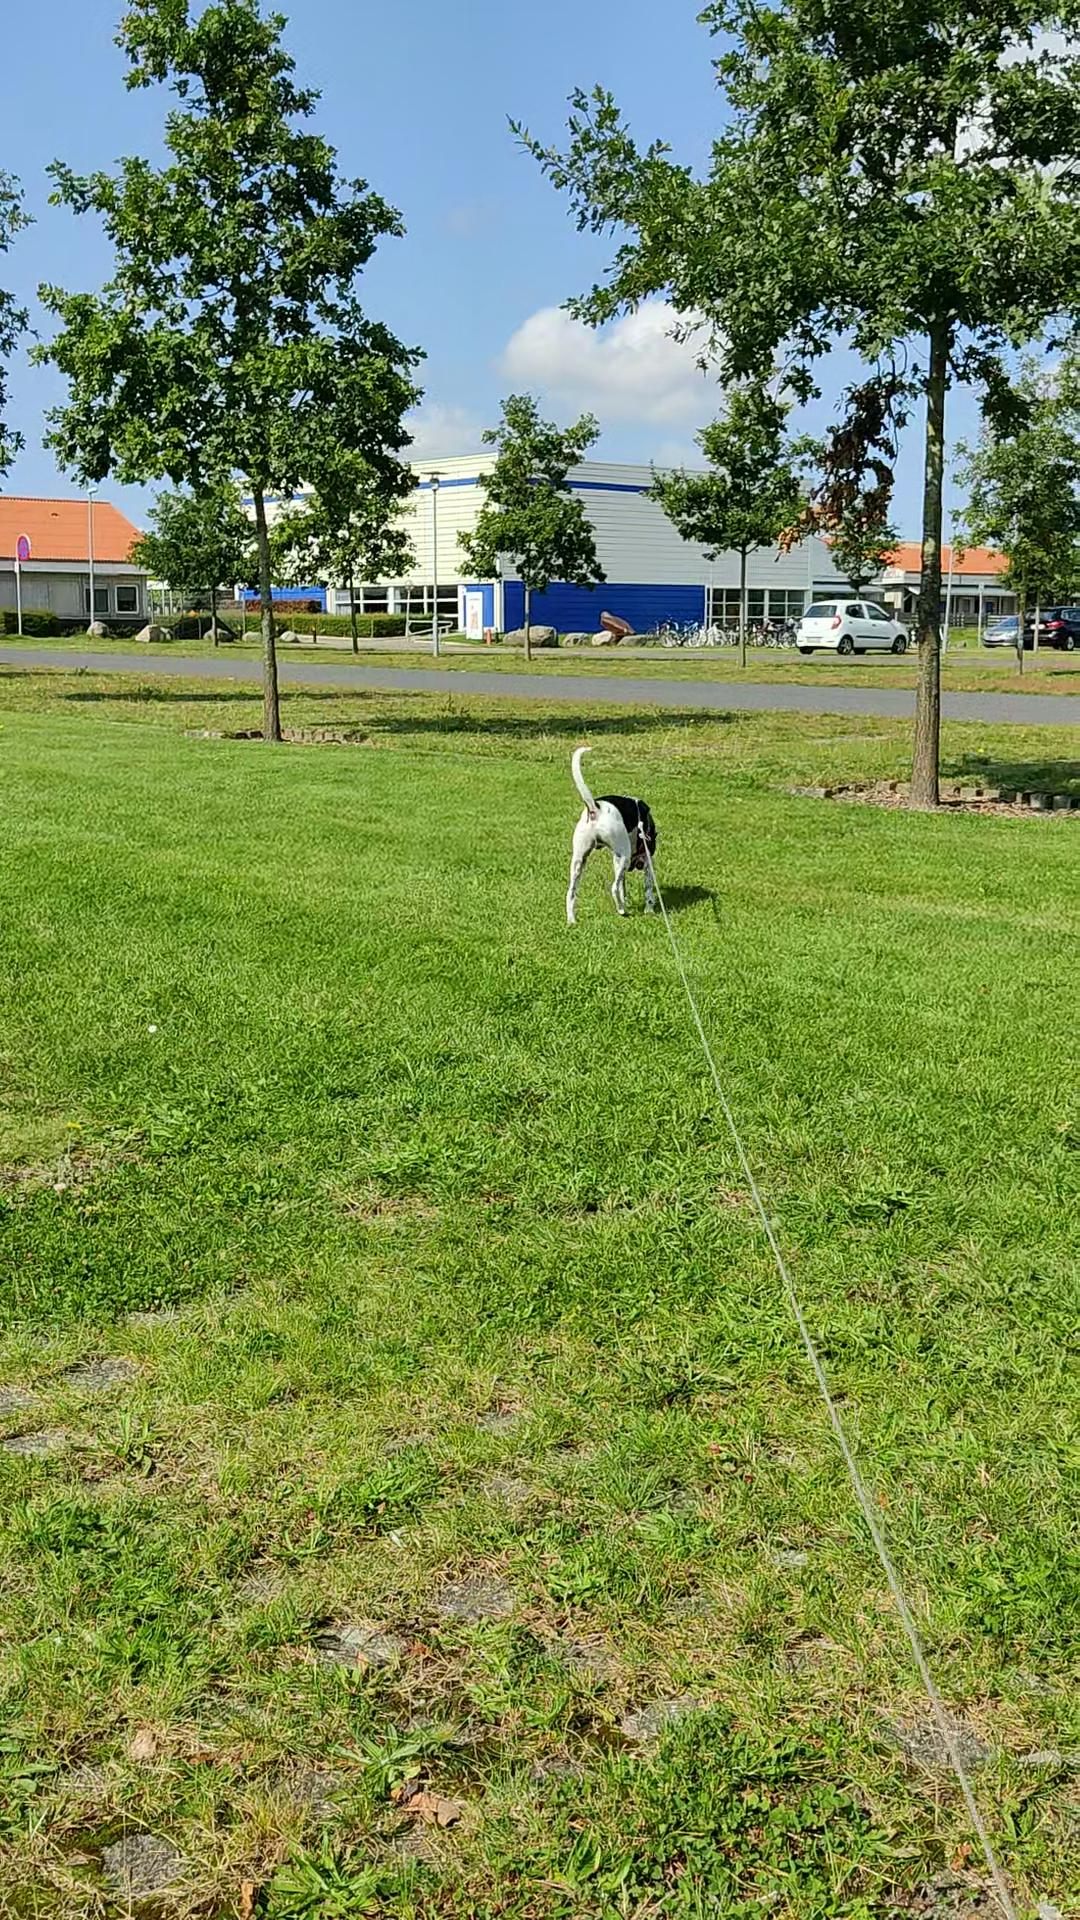Dog: (553, 738, 670, 938)
